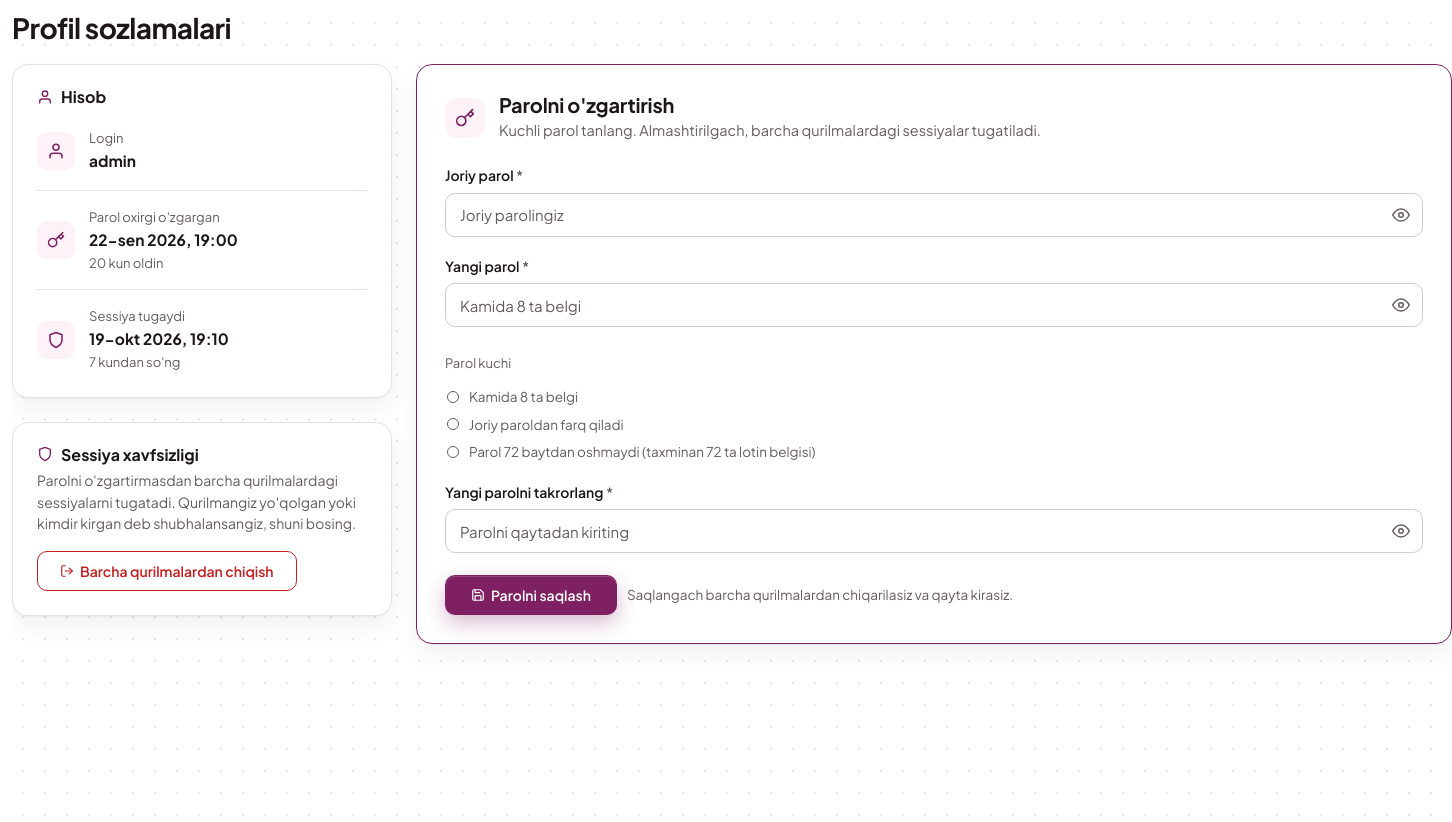
Test: ProfileAdmin: «Hisob» kartasi (GET /admin/me) › parol muvaffaqiyatli almashtirilganda karta mahalliy yangilanadi («hozirgina»), `/admin/me` ga qayta so'rov ketmaydi
Check: the text "20 kun oldin" is shown, box [89,255,163,271]
Type "eski-parol" into the password field labelled "Joriy parol *" at (934, 215), box [445,193,1423,237]
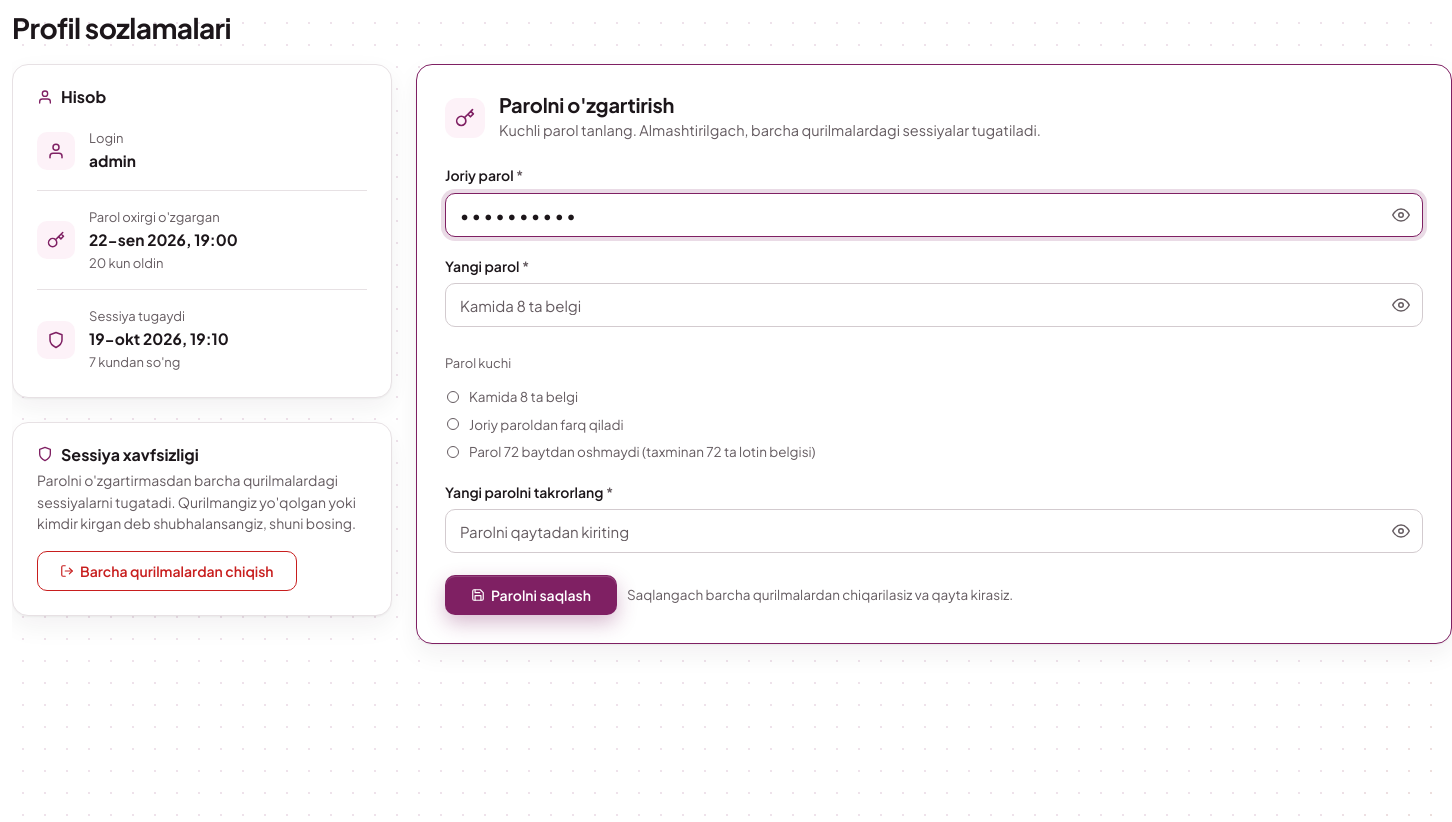
Type "yangi-parol-1" into the password field labelled "Yangi parol *" at (934, 305), box [445,283,1423,327]
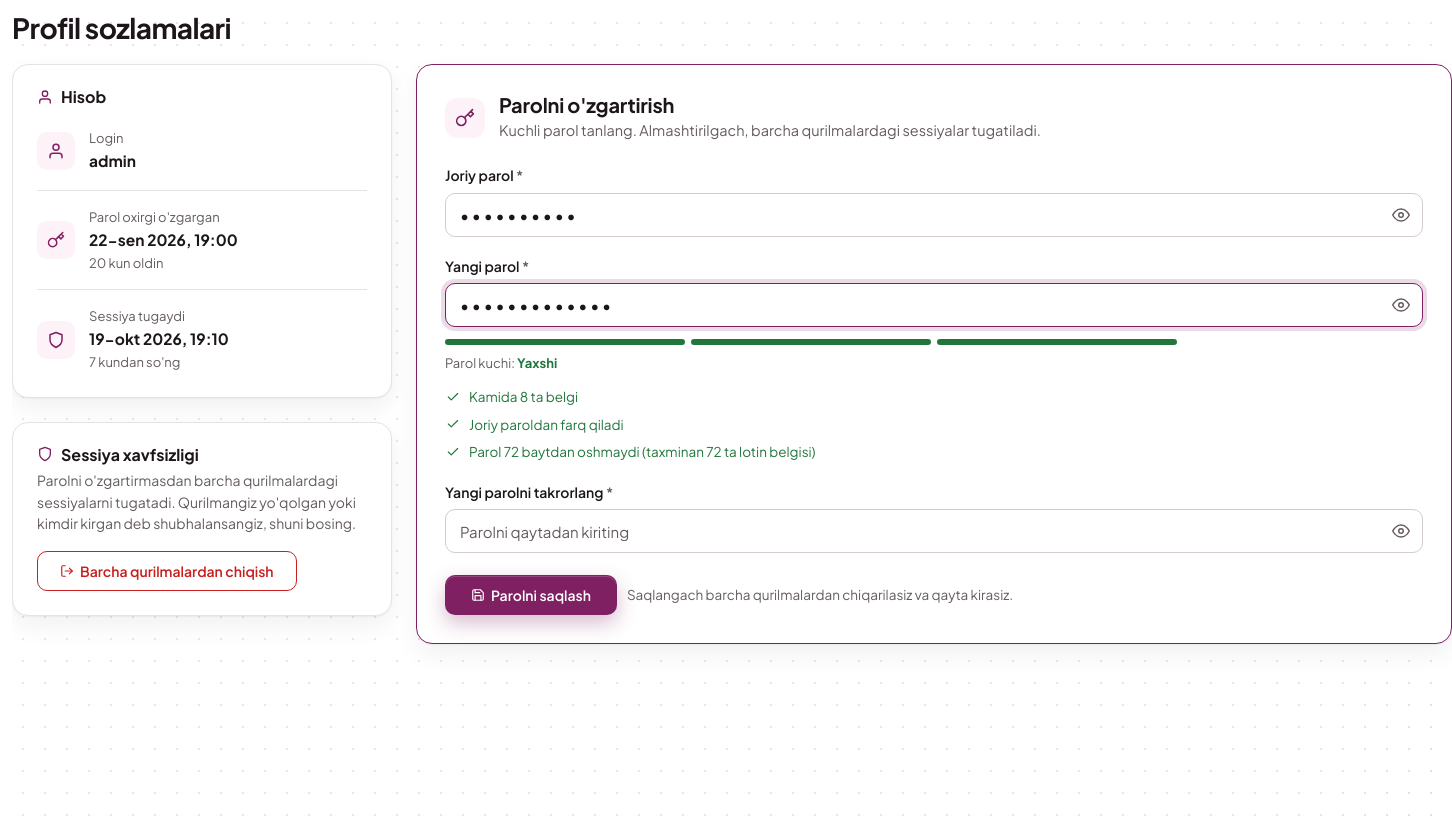
Type "yangi-parol-1" into the password field labelled "Yangi parolni takrorlang *" at (934, 531), box [445,509,1423,553]
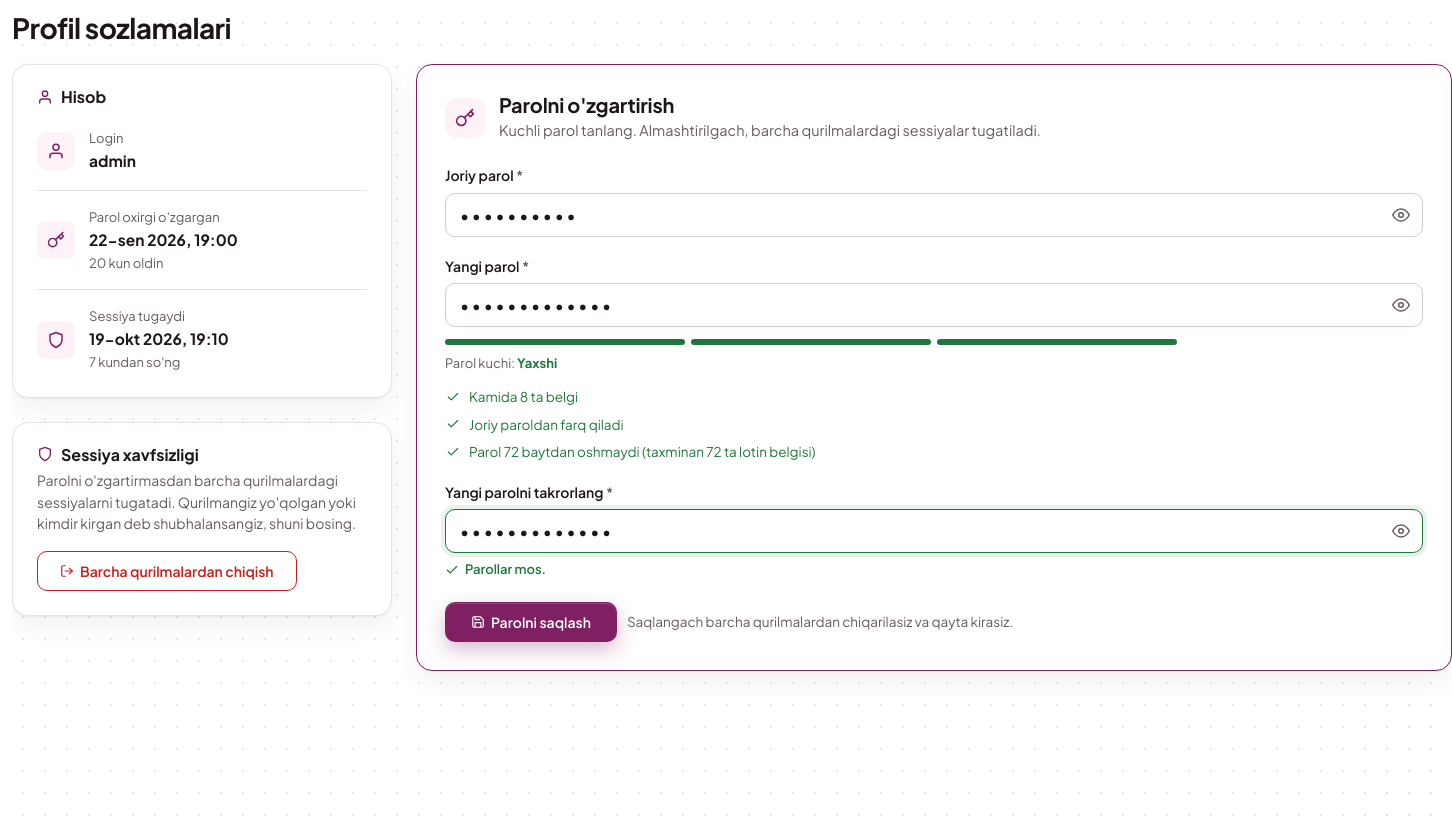
Click the button "Parolni saqlash" at (531, 622), box [445,602,617,642]
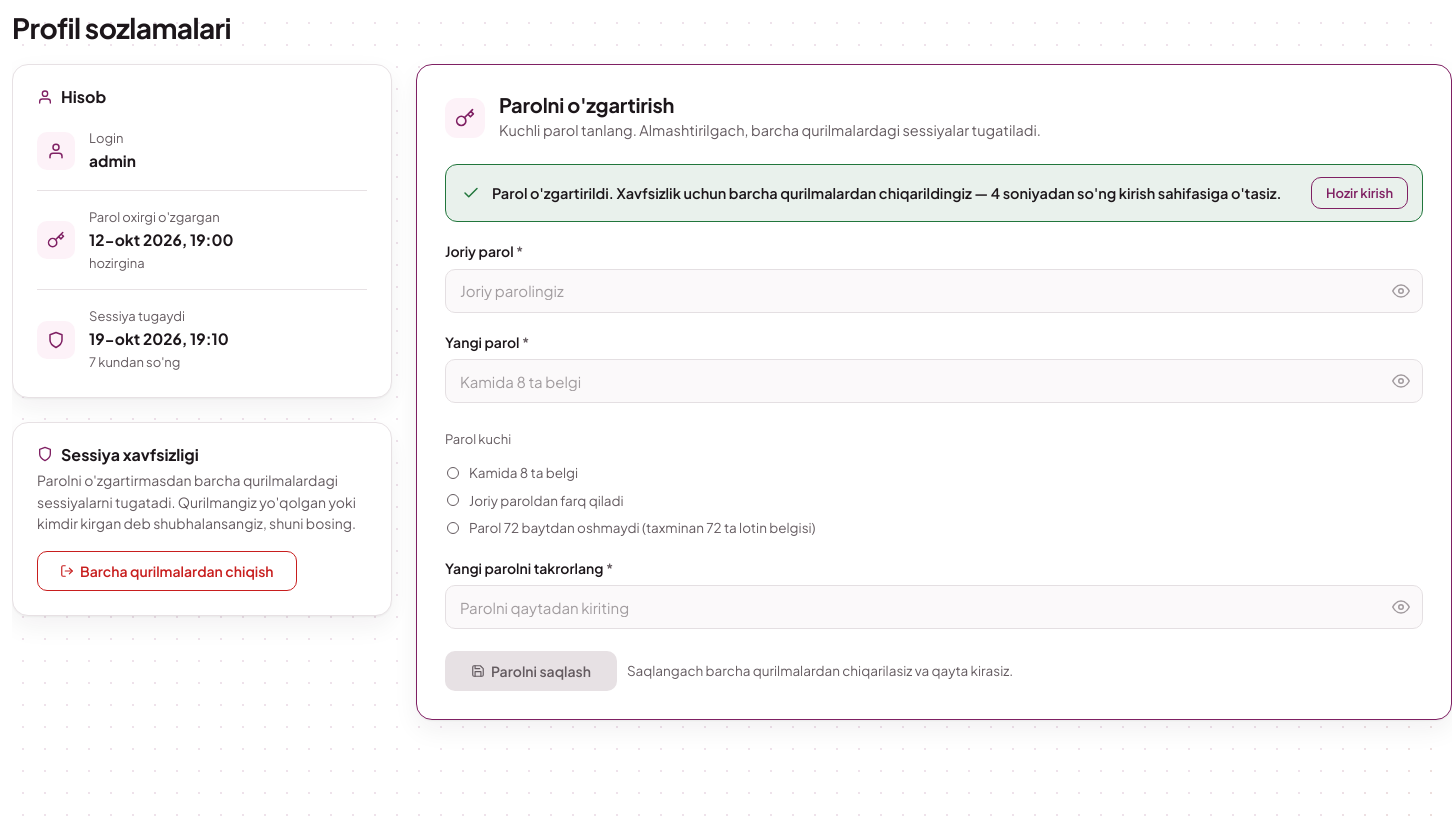
Check: the text "Parol o'zgartirildi" is shown, box [492,184,991,202]
Check: the text "hozirgina" is shown, box [89,255,145,271]
